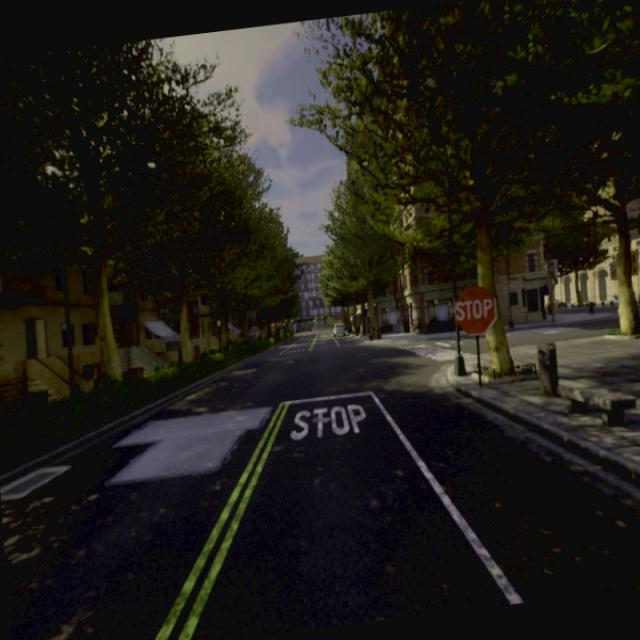stop sign: (452, 283, 498, 337), (454, 297, 494, 321)
